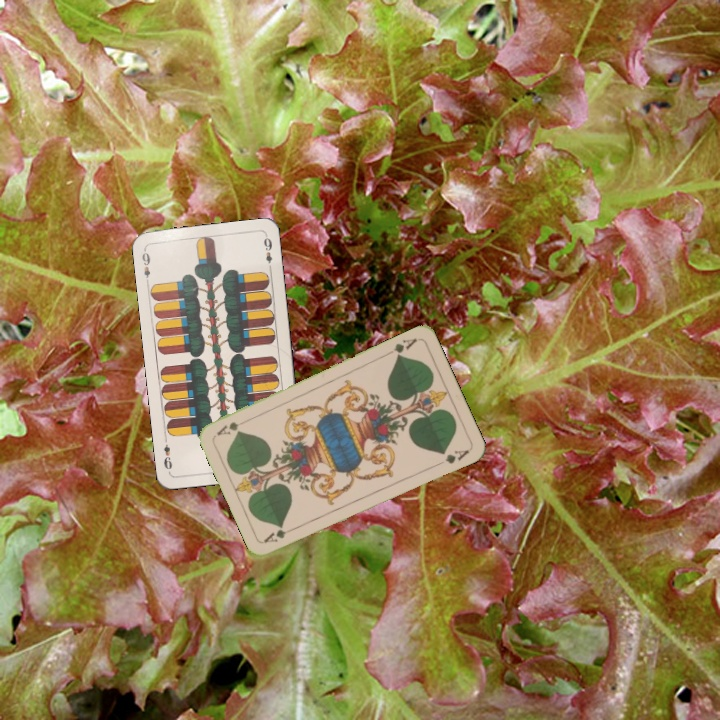E9: (138, 246, 153, 286)
GA: (382, 334, 420, 360), (260, 523, 299, 546)
